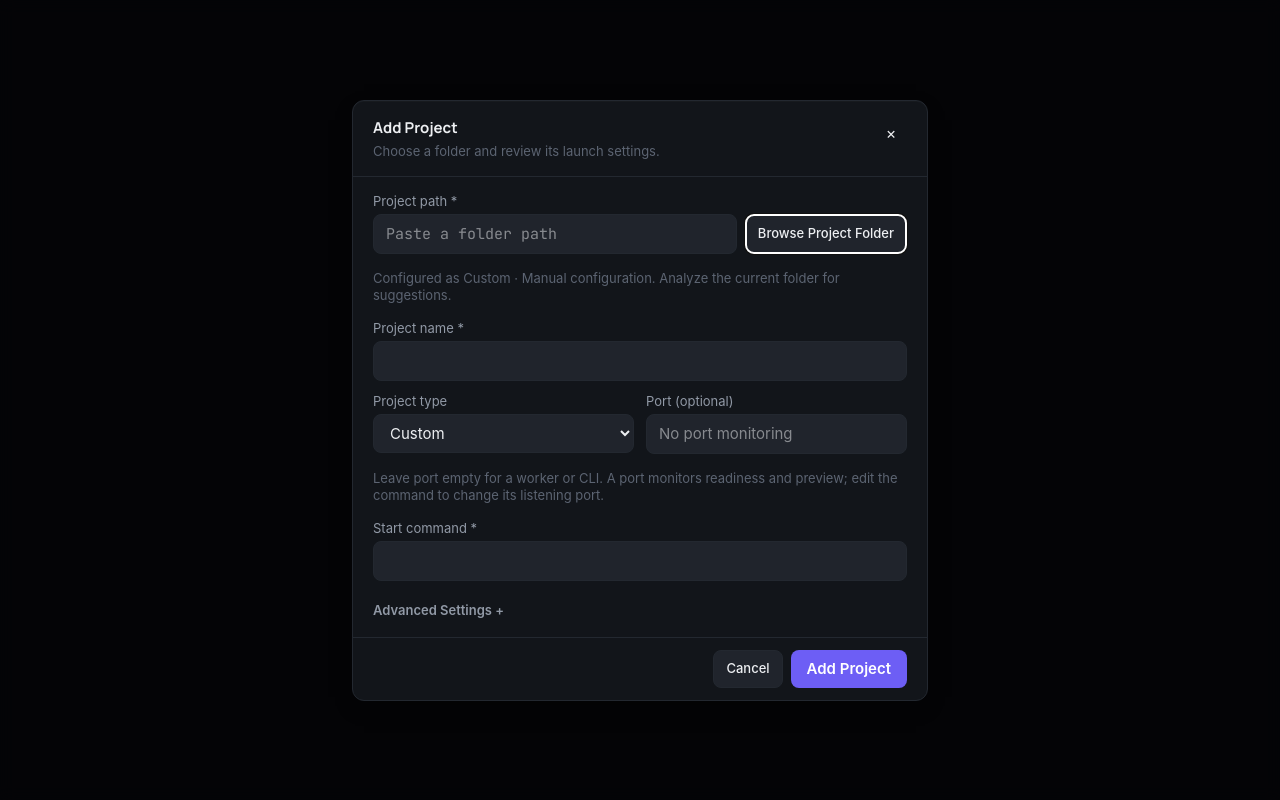
it: AP01 in-flight detection preserves latest edits, including new environment rows
This screenshot has width=1280, height=800.
Later steps or results of the test are not shown.
Click the button "Browse Project Folder" at (826, 234), box [745,214,907,254]
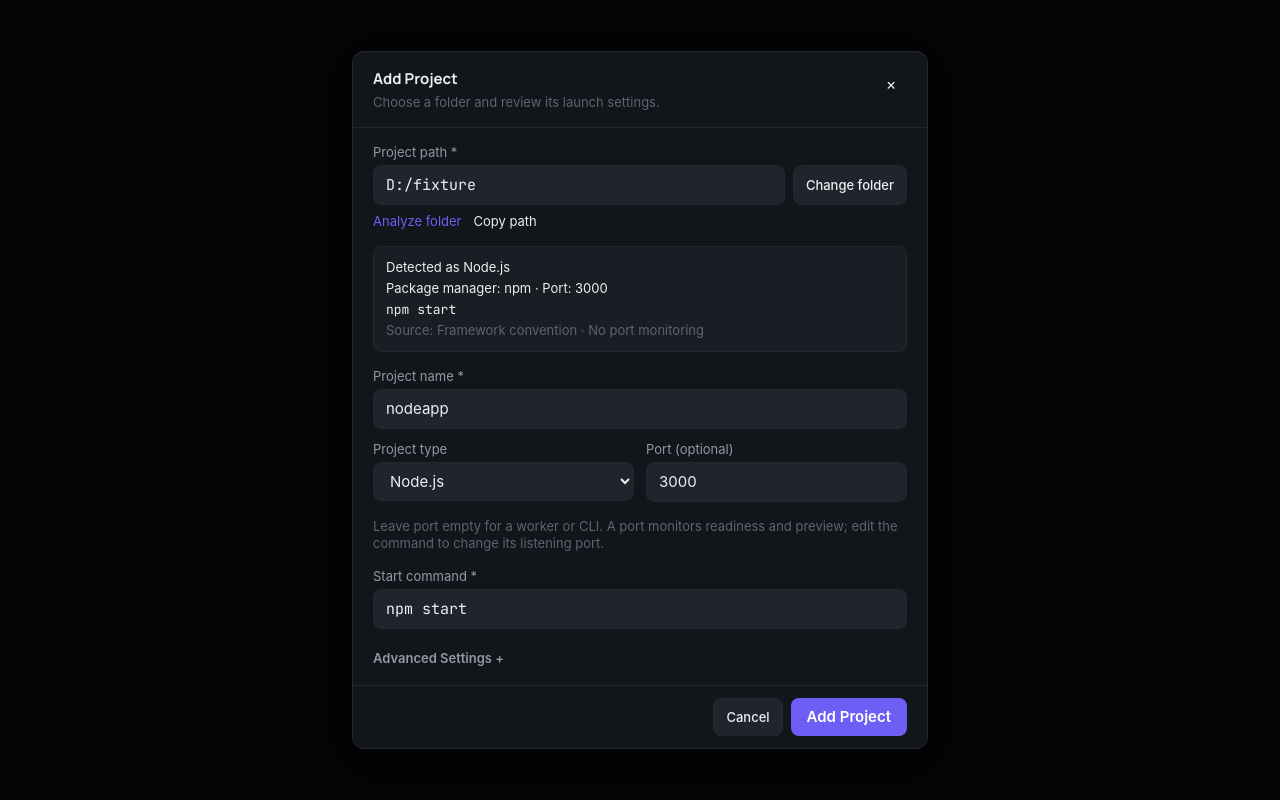
Expected: the text "Detected as Node.js" is shown, [386,259,510,275]
